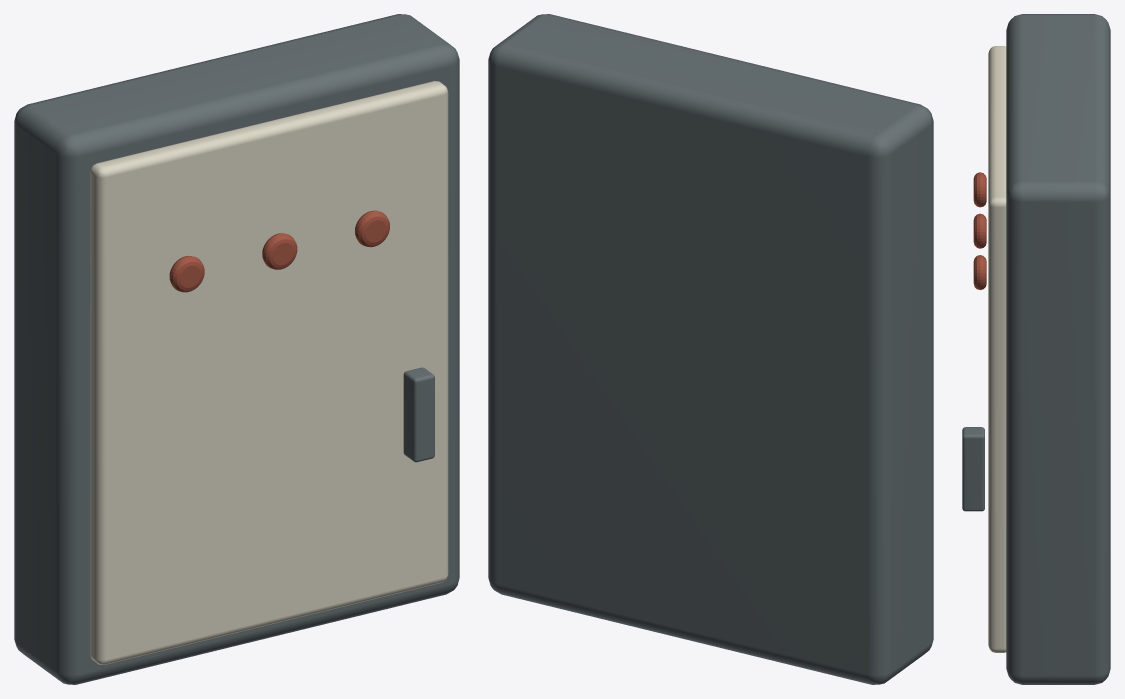
File: ElectricalPanel.fbx
The picture shows the model from 3 angles, left to right: view 1: azimuth 30°, elevation 25°; view 2: azimuth 150°, elevation 25°; view 3: azimuth 270°, elevation 25°; orthographic projection. The views are drawn at different scales.
Parts seen in each view (by area): view 1: Panel door, Panel enclosure, Panel latch, Indicator.001, Indicator, Indicator.002; view 2: Panel enclosure; view 3: Panel enclosure, Panel door, Panel latch, Indicator.001, Indicator.002, Indicator.
Boxes of the visible parts, <box> form: Panel door: <box>90,81,448,664</box>; Panel enclosure: <box>14,14,459,684</box>; Panel latch: <box>403,367,434,462</box>; Indicator.001: <box>262,233,297,269</box>; Indicator: <box>169,255,204,292</box>; Indicator.002: <box>355,210,389,247</box>; Panel enclosure: <box>488,14,933,684</box>; Panel enclosure: <box>1006,14,1110,684</box>; Panel door: <box>988,46,1006,652</box>; Panel latch: <box>962,427,984,511</box>; Indicator.001: <box>973,213,986,248</box>; Indicator.002: <box>973,255,986,289</box>; Indicator: <box>973,172,986,207</box>.
Bounding box in the file's own units: 65 × 85 × 22.75.
